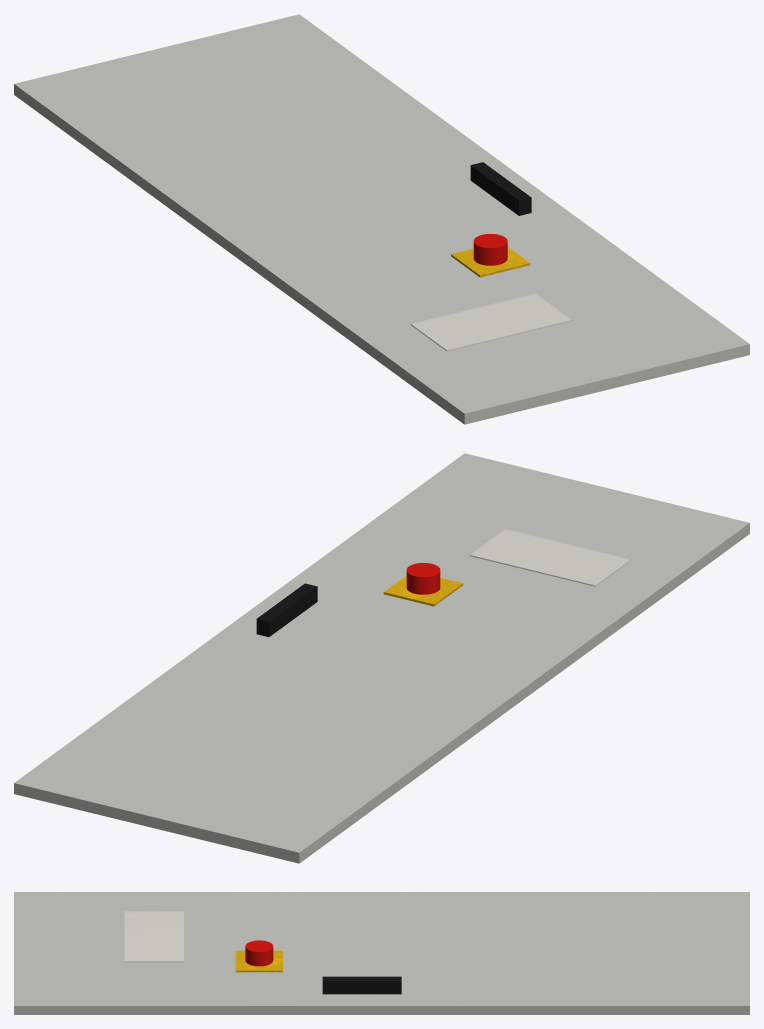
The model's file is cabinet_controller_door.glb.
3 renders of one model, top to bottom at view 1: azimuth 30°, elevation 25°; view 2: azimuth 150°, elevation 25°; view 3: azimuth 270°, elevation 25°, orthographic. The views are drawn at different scales.
Parts seen in each view (by area): view 1: cabinet_controller_door; view 2: cabinet_controller_door; view 3: cabinet_controller_door.
Boxes of the visible parts, left/top/right/bottom form: cabinet_controller_door: left=14, top=14, right=749, bottom=424; cabinet_controller_door: left=14, top=453, right=749, bottom=863; cabinet_controller_door: left=14, top=892, right=749, bottom=1014.
Size of the model in its own units: 0.68 by 0.07 by 1.86.
Materials: 5 (2 with a texture image).
